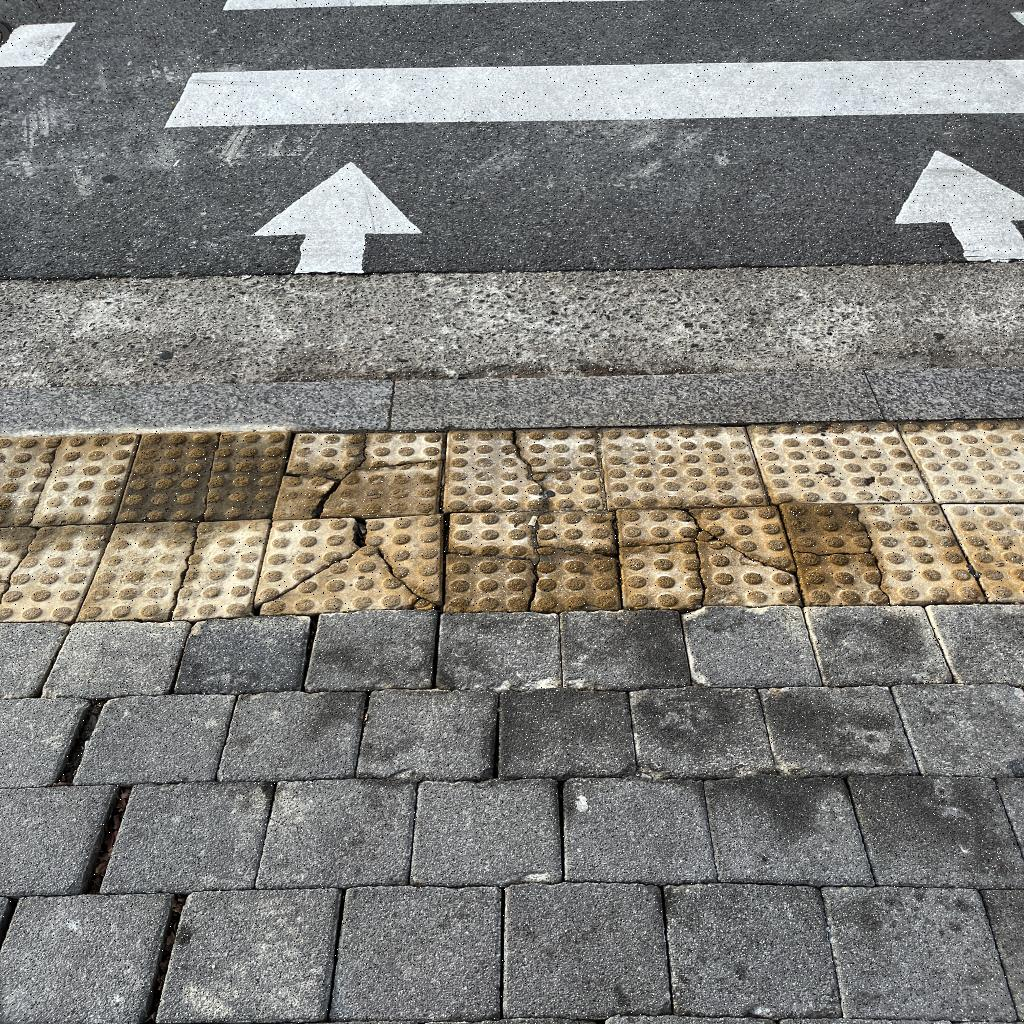Stop block broken: (782, 500, 983, 605), (73, 519, 272, 621), (250, 512, 447, 615), (617, 505, 802, 608), (442, 510, 620, 613), (269, 426, 449, 519), (114, 430, 292, 522), (442, 428, 604, 511)
Stop block normal: (748, 422, 932, 502), (601, 424, 768, 509)
